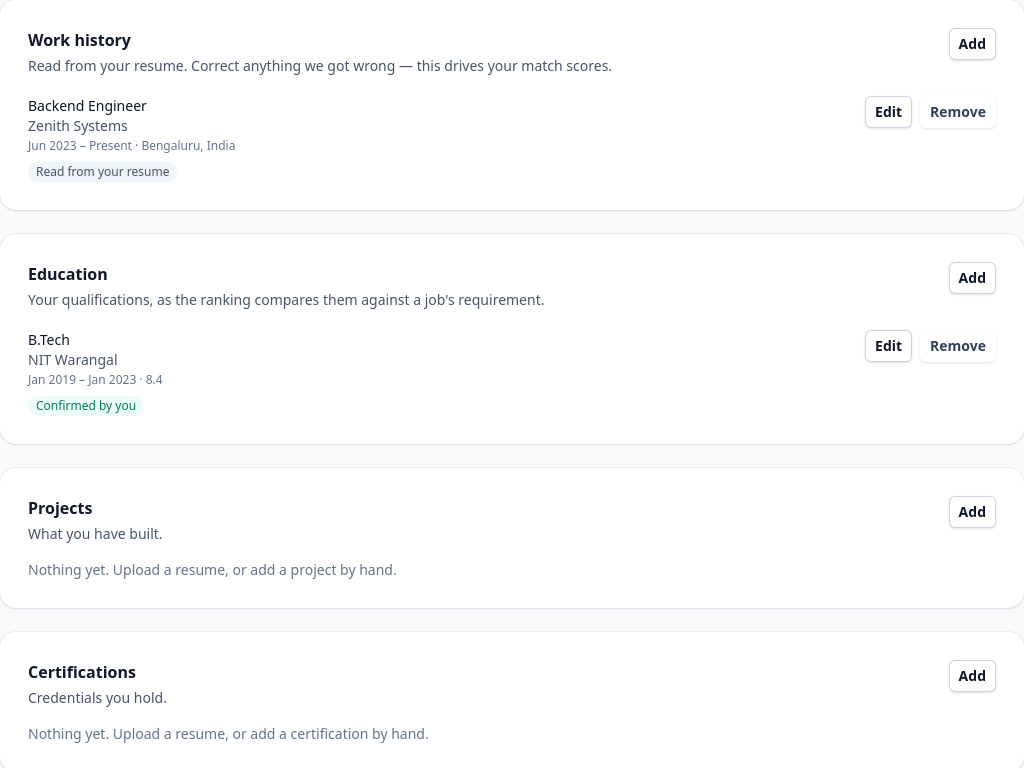
CareerProfile › an ongoing entry › gives the date back if the tick was a misclick
Expected: the text "B.Tech" is shown, top-left (28, 330), bottom-right (70, 349)
Click the button "Edit" in the row of "NIT Warangal" at (889, 346), box top-left (865, 330), bottom-right (912, 362)
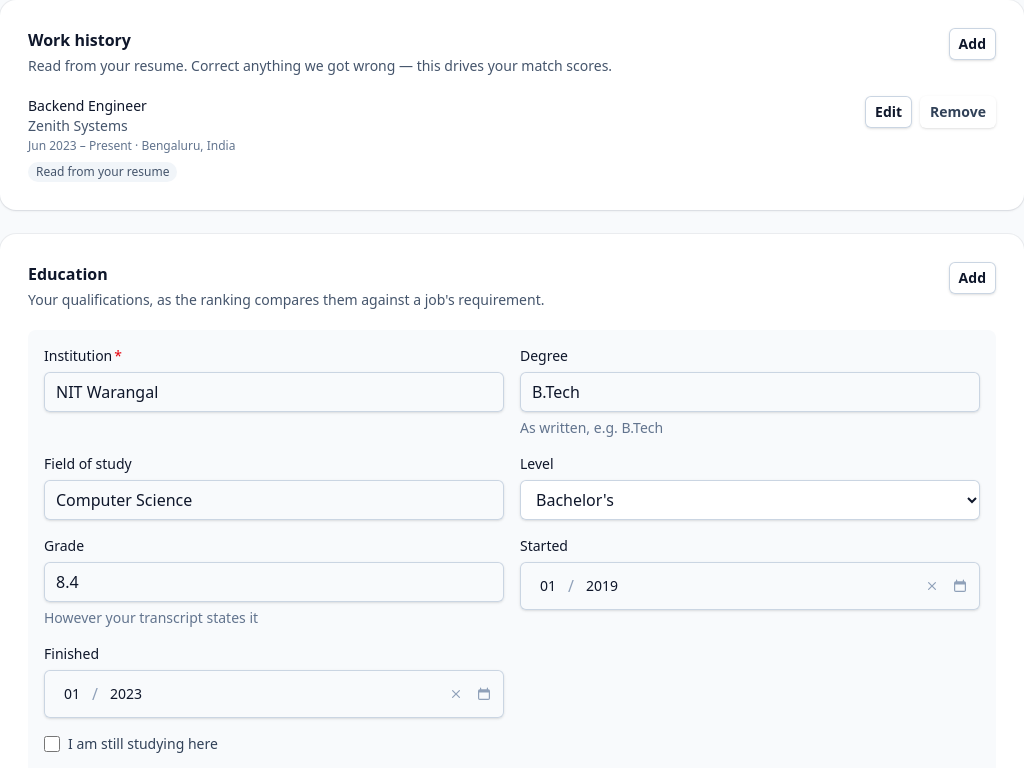
Click the checkbox labelled "I am still studying here" at (52, 744), box top-left (44, 736), bottom-right (60, 752)
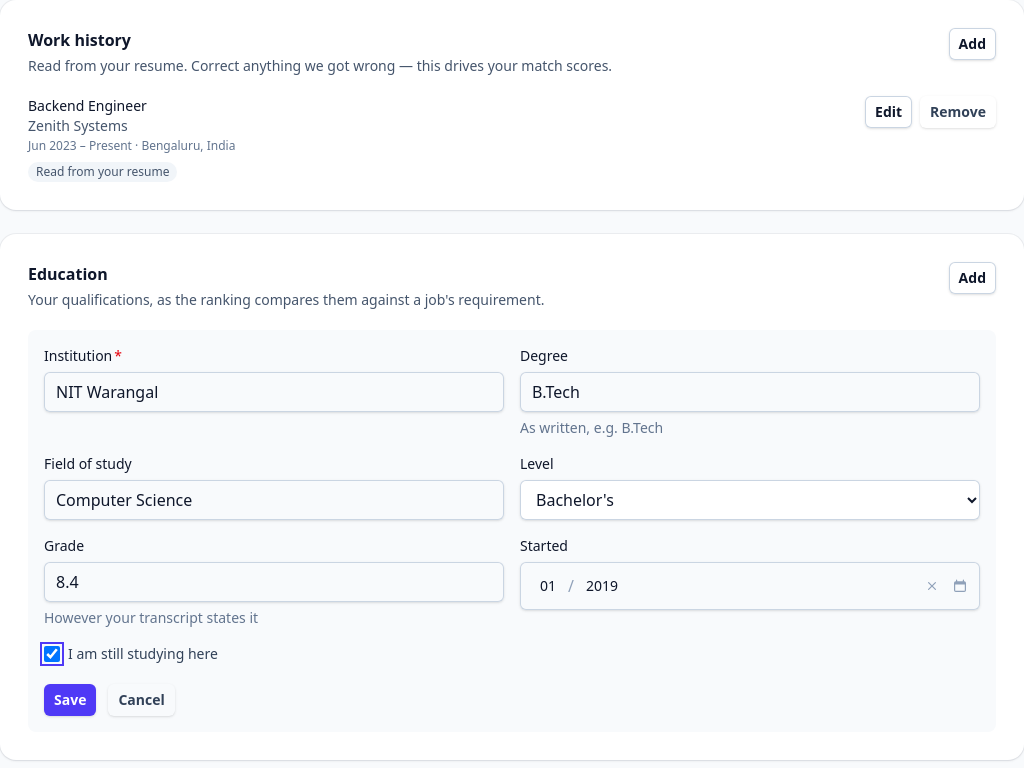
Click the checkbox labelled "I am still studying here" at (52, 654), box top-left (44, 646), bottom-right (60, 662)
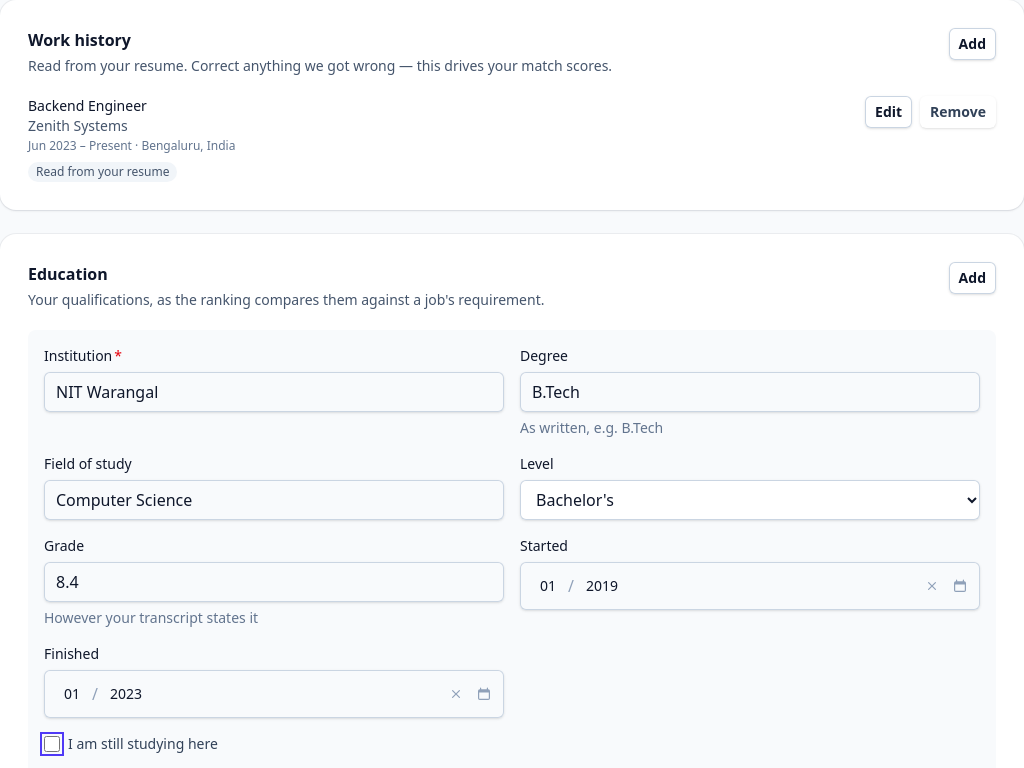
Now the button named "Finished year" reads "2023", box top-left (102, 684), bottom-right (150, 704)
Now the button named "Finished month" reads "01", box top-left (56, 684), bottom-right (88, 704)
